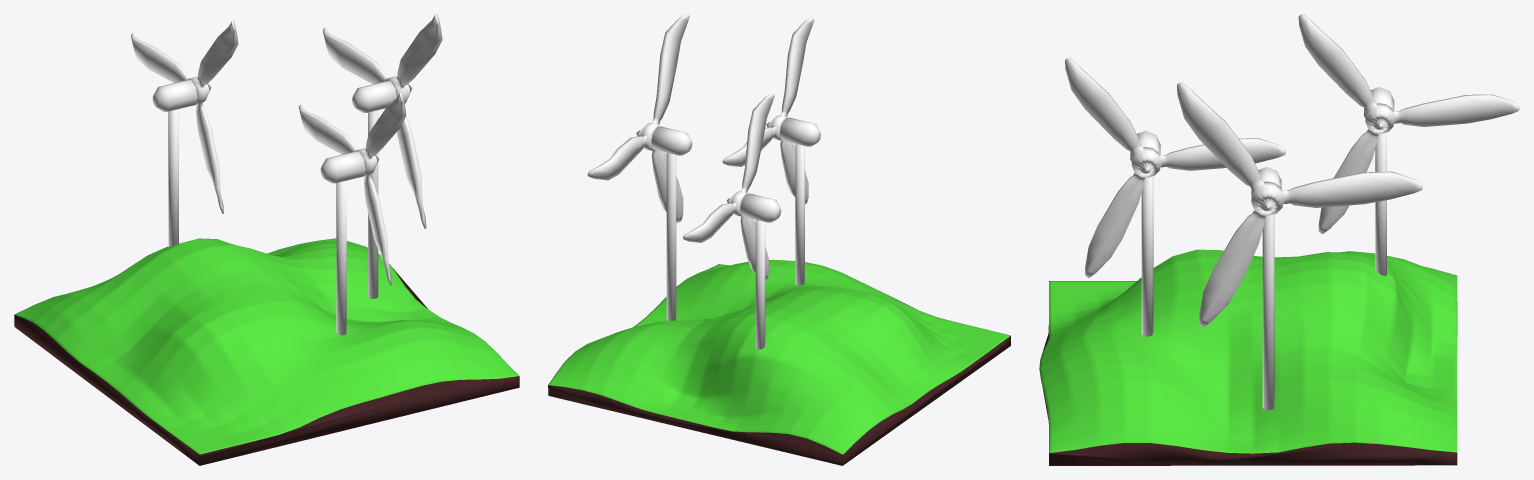
The model's file is turbine.glb.
3 renders of one model, left to right at view 1: azimuth 30°, elevation 25°; view 2: azimuth 150°, elevation 25°; view 3: azimuth 270°, elevation 25°, orthographic. The views are drawn at different scales.
Parts seen in each view (by area): view 1: Cube, tuebineA, tuebineB, tuebineC, Cylinder.003, Cylinder.006, Cylinder.002, Cylinder.005, Cylinder.009, Cylinder.008; view 2: Cube, tuebineA, tuebineC, tuebineB, Cylinder.009, Cylinder.003, Cylinder.006, Cylinder.005, Cylinder.008, Cylinder.002; view 3: Cube, tuebineA, tuebineB, tuebineC, Cylinder.009, Cylinder.003, Cylinder.006.
Part boxes in pixels (box(x1,y1,x2,y2)): Cube: box(14, 238, 519, 465); tuebineA: box(322, 14, 442, 228); tuebineB: box(298, 92, 406, 285); tuebineC: box(130, 20, 238, 213); Cylinder.003: box(336, 180, 346, 335); Cylinder.006: box(168, 109, 178, 246); Cylinder.002: box(320, 151, 365, 183); Cylinder.005: box(152, 80, 197, 111); Cylinder.009: box(368, 110, 378, 298); Cylinder.008: box(352, 81, 396, 112); Cube: box(548, 259, 1010, 465); tuebineA: box(587, 14, 689, 222); tuebineC: box(683, 93, 774, 280); tuebineB: box(722, 17, 814, 204); Cylinder.009: box(666, 152, 676, 320); Cylinder.003: box(795, 143, 804, 285); Cylinder.006: box(755, 219, 765, 349); Cylinder.005: box(740, 193, 781, 222); Cylinder.008: box(651, 126, 692, 155); Cylinder.002: box(779, 117, 820, 146); Cube: box(1039, 249, 1457, 465); tuebineA: box(1177, 82, 1422, 326); tuebineB: box(1065, 58, 1285, 277); tuebineC: box(1298, 14, 1519, 233); Cylinder.009: box(1262, 214, 1274, 410); Cylinder.003: box(1141, 176, 1153, 336); Cylinder.006: box(1375, 132, 1386, 276).
Bounding box in the file's own units: 83.65 × 80.03 × 93.89.
